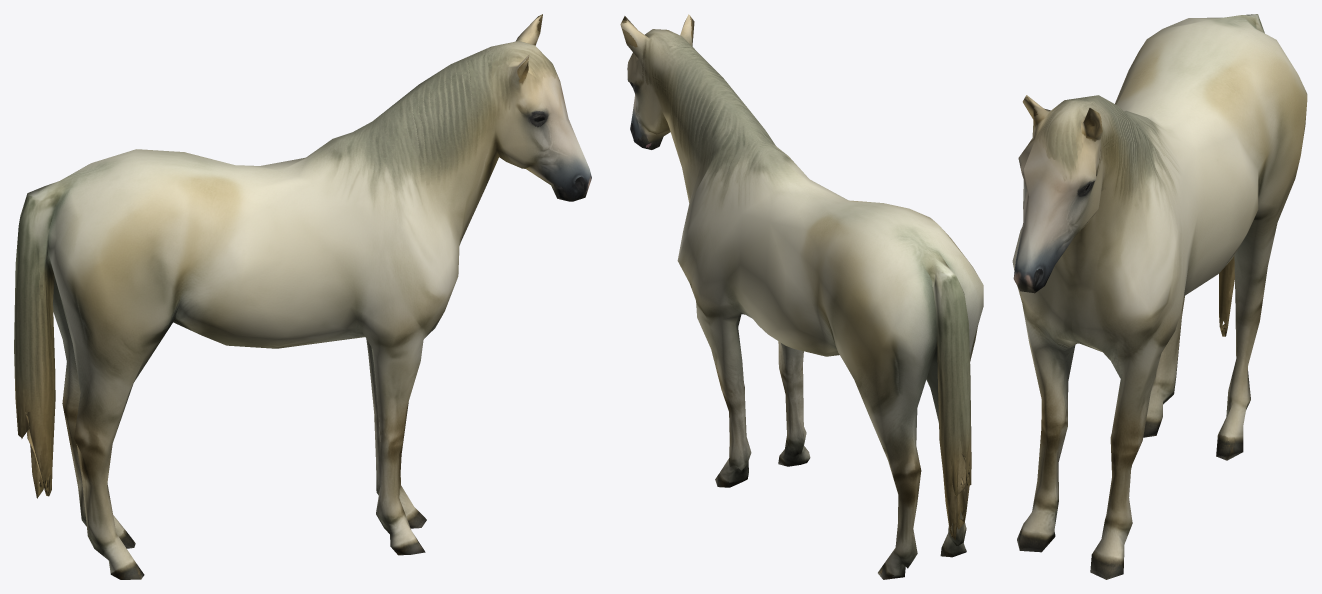
Rendered from horse_white_single_1500.glb.
3 views of the same model, side by side, from view 1: azimuth 30°, elevation 25°; view 2: azimuth 150°, elevation 25°; view 3: azimuth 270°, elevation 25° (orthographic). The views are drawn at different scales.
Bounding box in the file's own units: 0.8659 × 0.8548 × 0.4256.
1 material, 1 textured.
